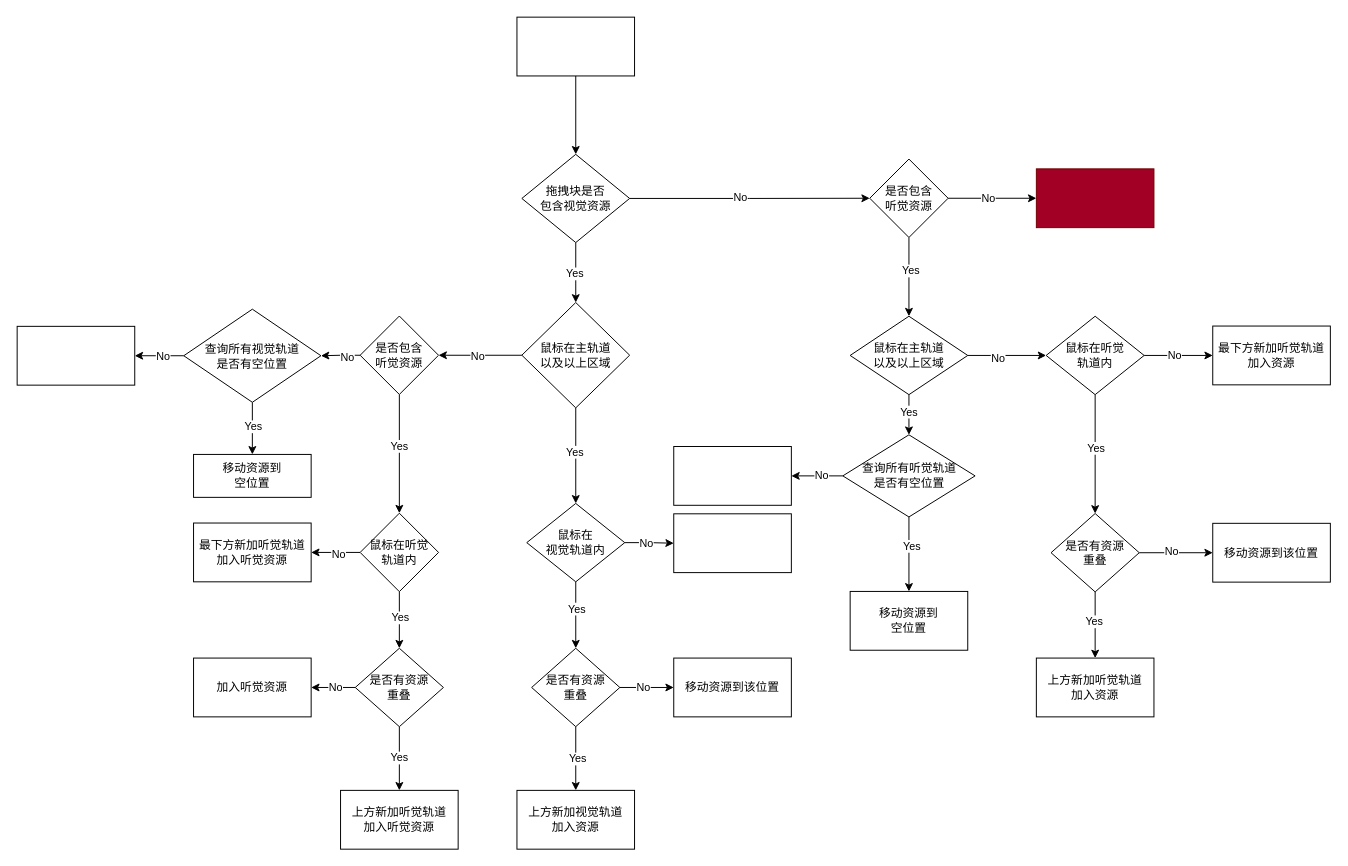
Image size: 1348x866. Some labels were removed from this diagram. Here are the shapes that lost their labels. From the top down, the box of each, then its label:
(516, 16, 635, 76): 拖拽单个块
(1035, 168, 1154, 228): 不可能
(16, 325, 135, 385): 最上方新加视觉轨道 并加入资源
(673, 446, 791, 505): 主轨道下方新建听觉 轨道，加入资源
(673, 513, 791, 573): 最上方新加视觉轨道 加入资源
